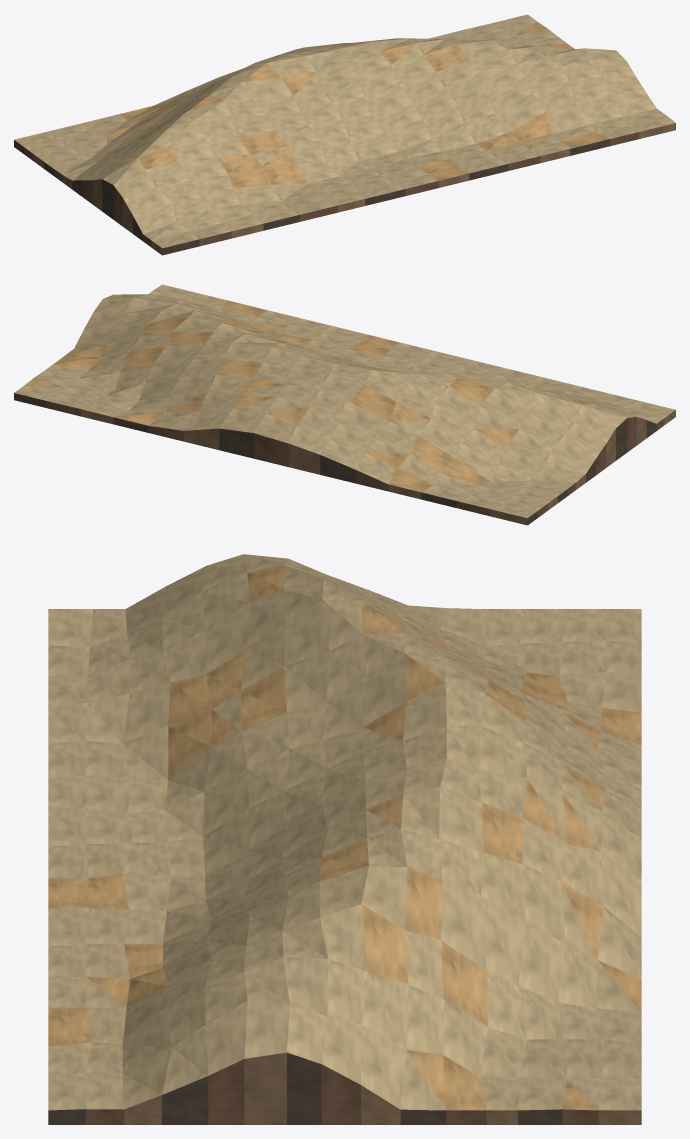
The model's file is dune_sand_M.fbx.
3 views of the same model, one above another, from view 1: azimuth 30°, elevation 25°; view 2: azimuth 150°, elevation 25°; view 3: azimuth 270°, elevation 25° (orthographic). The views are drawn at different scales.
Parts seen in each view (by area): view 1: dune_sand_M; view 2: dune_sand_M; view 3: dune_sand_M.
Boxes of the visible parts, box(x1,y1,x2,y2) form: dune_sand_M: box(14, 14, 675, 255); dune_sand_M: box(14, 284, 675, 525); dune_sand_M: box(48, 554, 641, 1124).
Bounding box in the file's own units: 5000 × 650 × 2500.
Materials: 1 (1 with a texture image).
